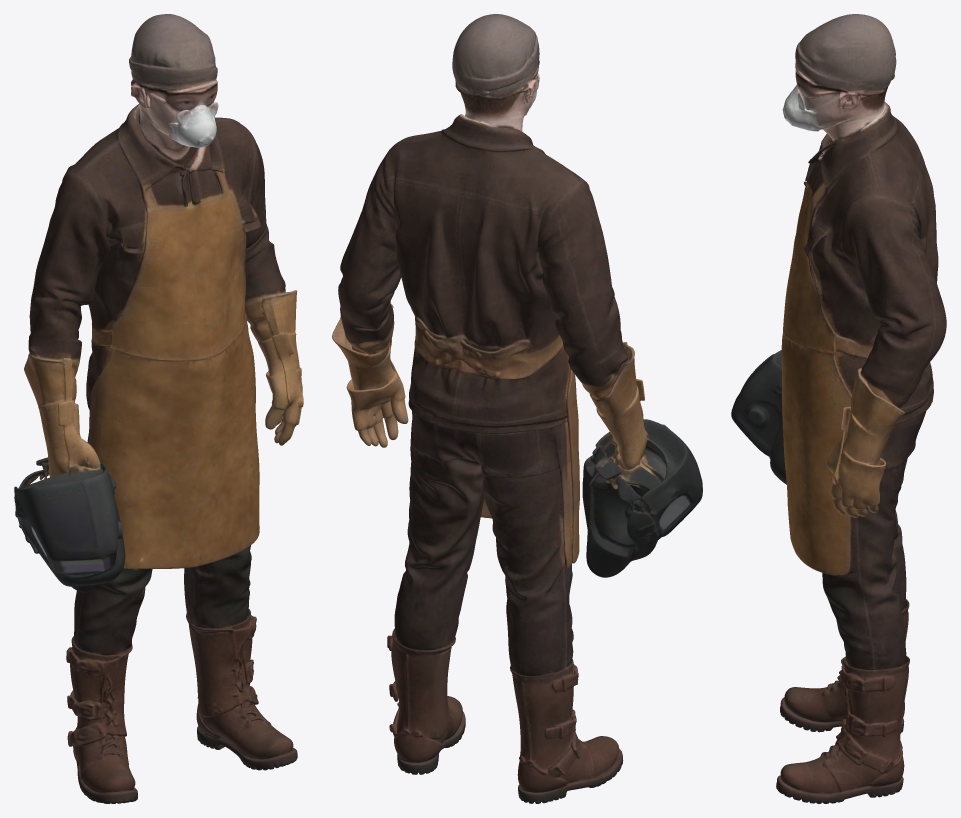
File: ppe.glb
3 views of the same model, side by side, from view 1: azimuth 30°, elevation 25°; view 2: azimuth 150°, elevation 25°; view 3: azimuth 270°, elevation 25° (orthographic).
Parts seen in each view (by area): view 1: Meshy_Meshy_Model_Mesh_0; view 2: Meshy_Meshy_Model_Mesh_0; view 3: Meshy_Meshy_Model_Mesh_0.
Part boxes in pixels (box(x1,y1,x2,y2)): Meshy_Meshy_Model_Mesh_0: box(14, 14, 303, 803); Meshy_Meshy_Model_Mesh_0: box(332, 14, 702, 803); Meshy_Meshy_Model_Mesh_0: box(731, 14, 946, 803).
Size of the model in its own units: 0.8547 by 2 by 0.5247.
Materials: 1 (1 with a texture image).
